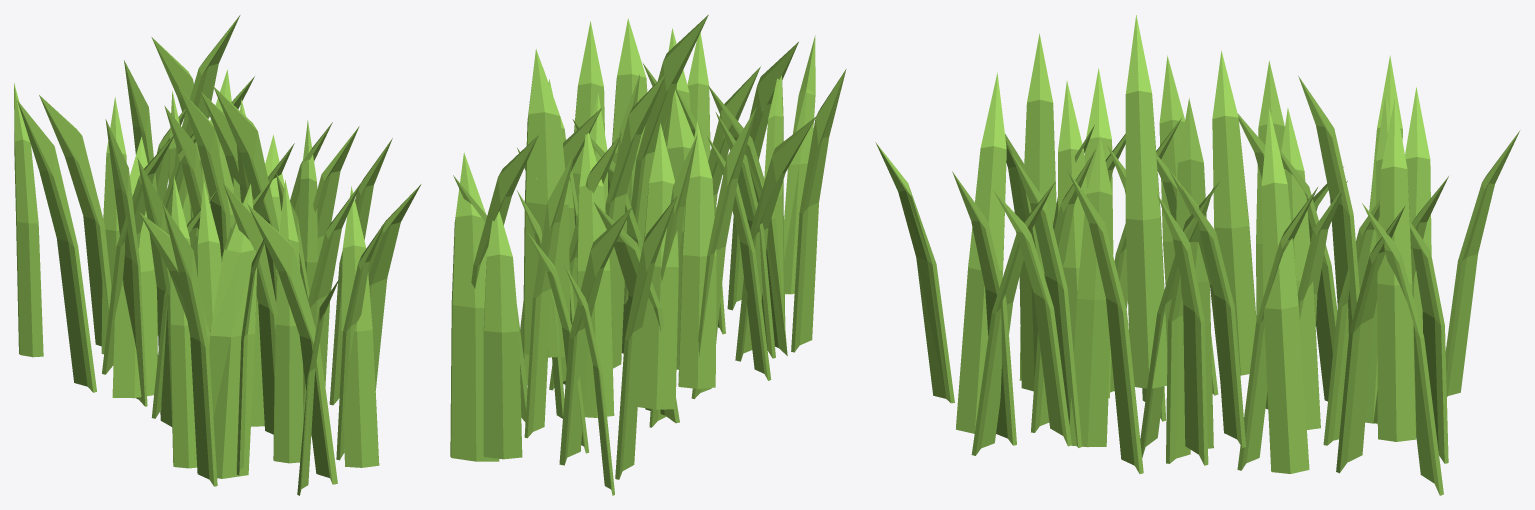
File: Grass.fbx
3 views of the same model, side by side, from view 1: azimuth 30°, elevation 25°; view 2: azimuth 150°, elevation 25°; view 3: azimuth 270°, elevation 25° (orthographic). The views are drawn at different scales.
Visible parts, largest first — view 1: Grass_c_02_LOD0.015; view 2: Grass_c_02_LOD0.015; view 3: Grass_c_02_LOD0.015.
Part boxes in pixels (x1=…): Grass_c_02_LOD0.015: x1=14, y1=15, x2=421, y2=495; Grass_c_02_LOD0.015: x1=450, y1=14, x2=846, y2=495; Grass_c_02_LOD0.015: x1=875, y1=15, x2=1519, y2=495.
Size of the model in its own units: 83.88 by 120 by 168.
